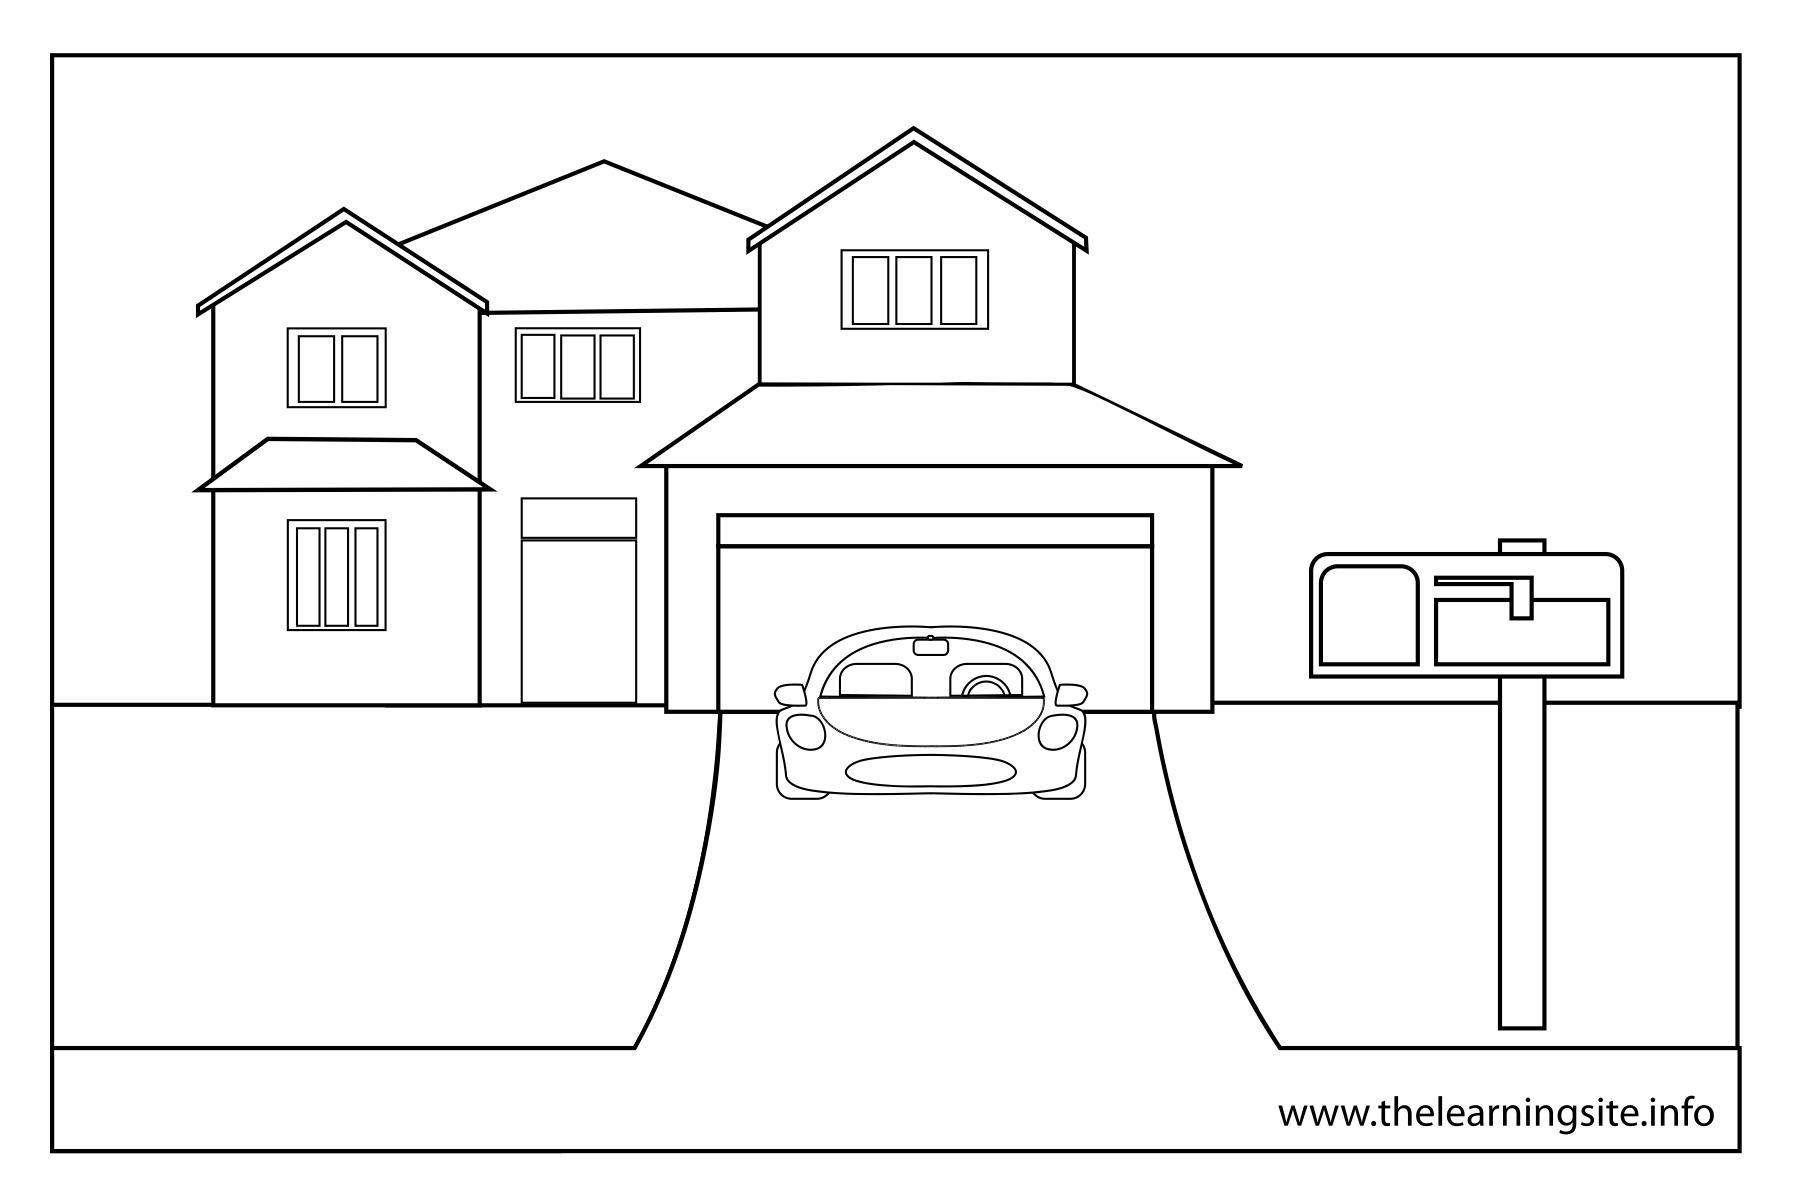car: (769, 616, 1094, 802)
